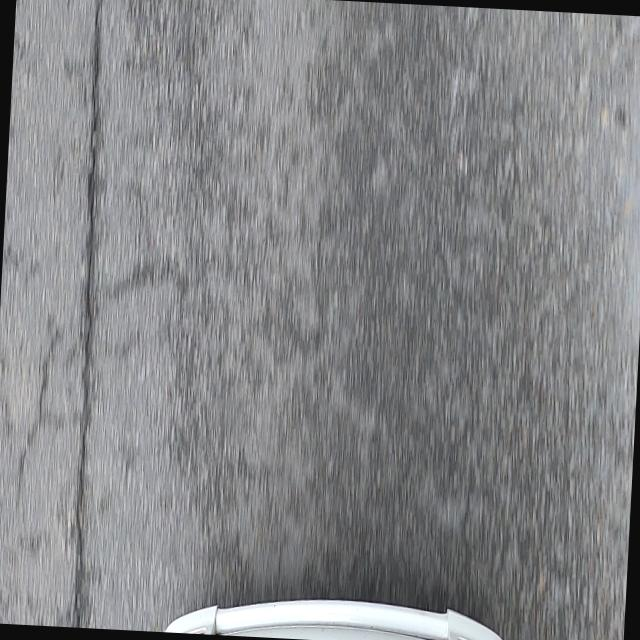Retak-Memanjang: (70, 0, 106, 628)
